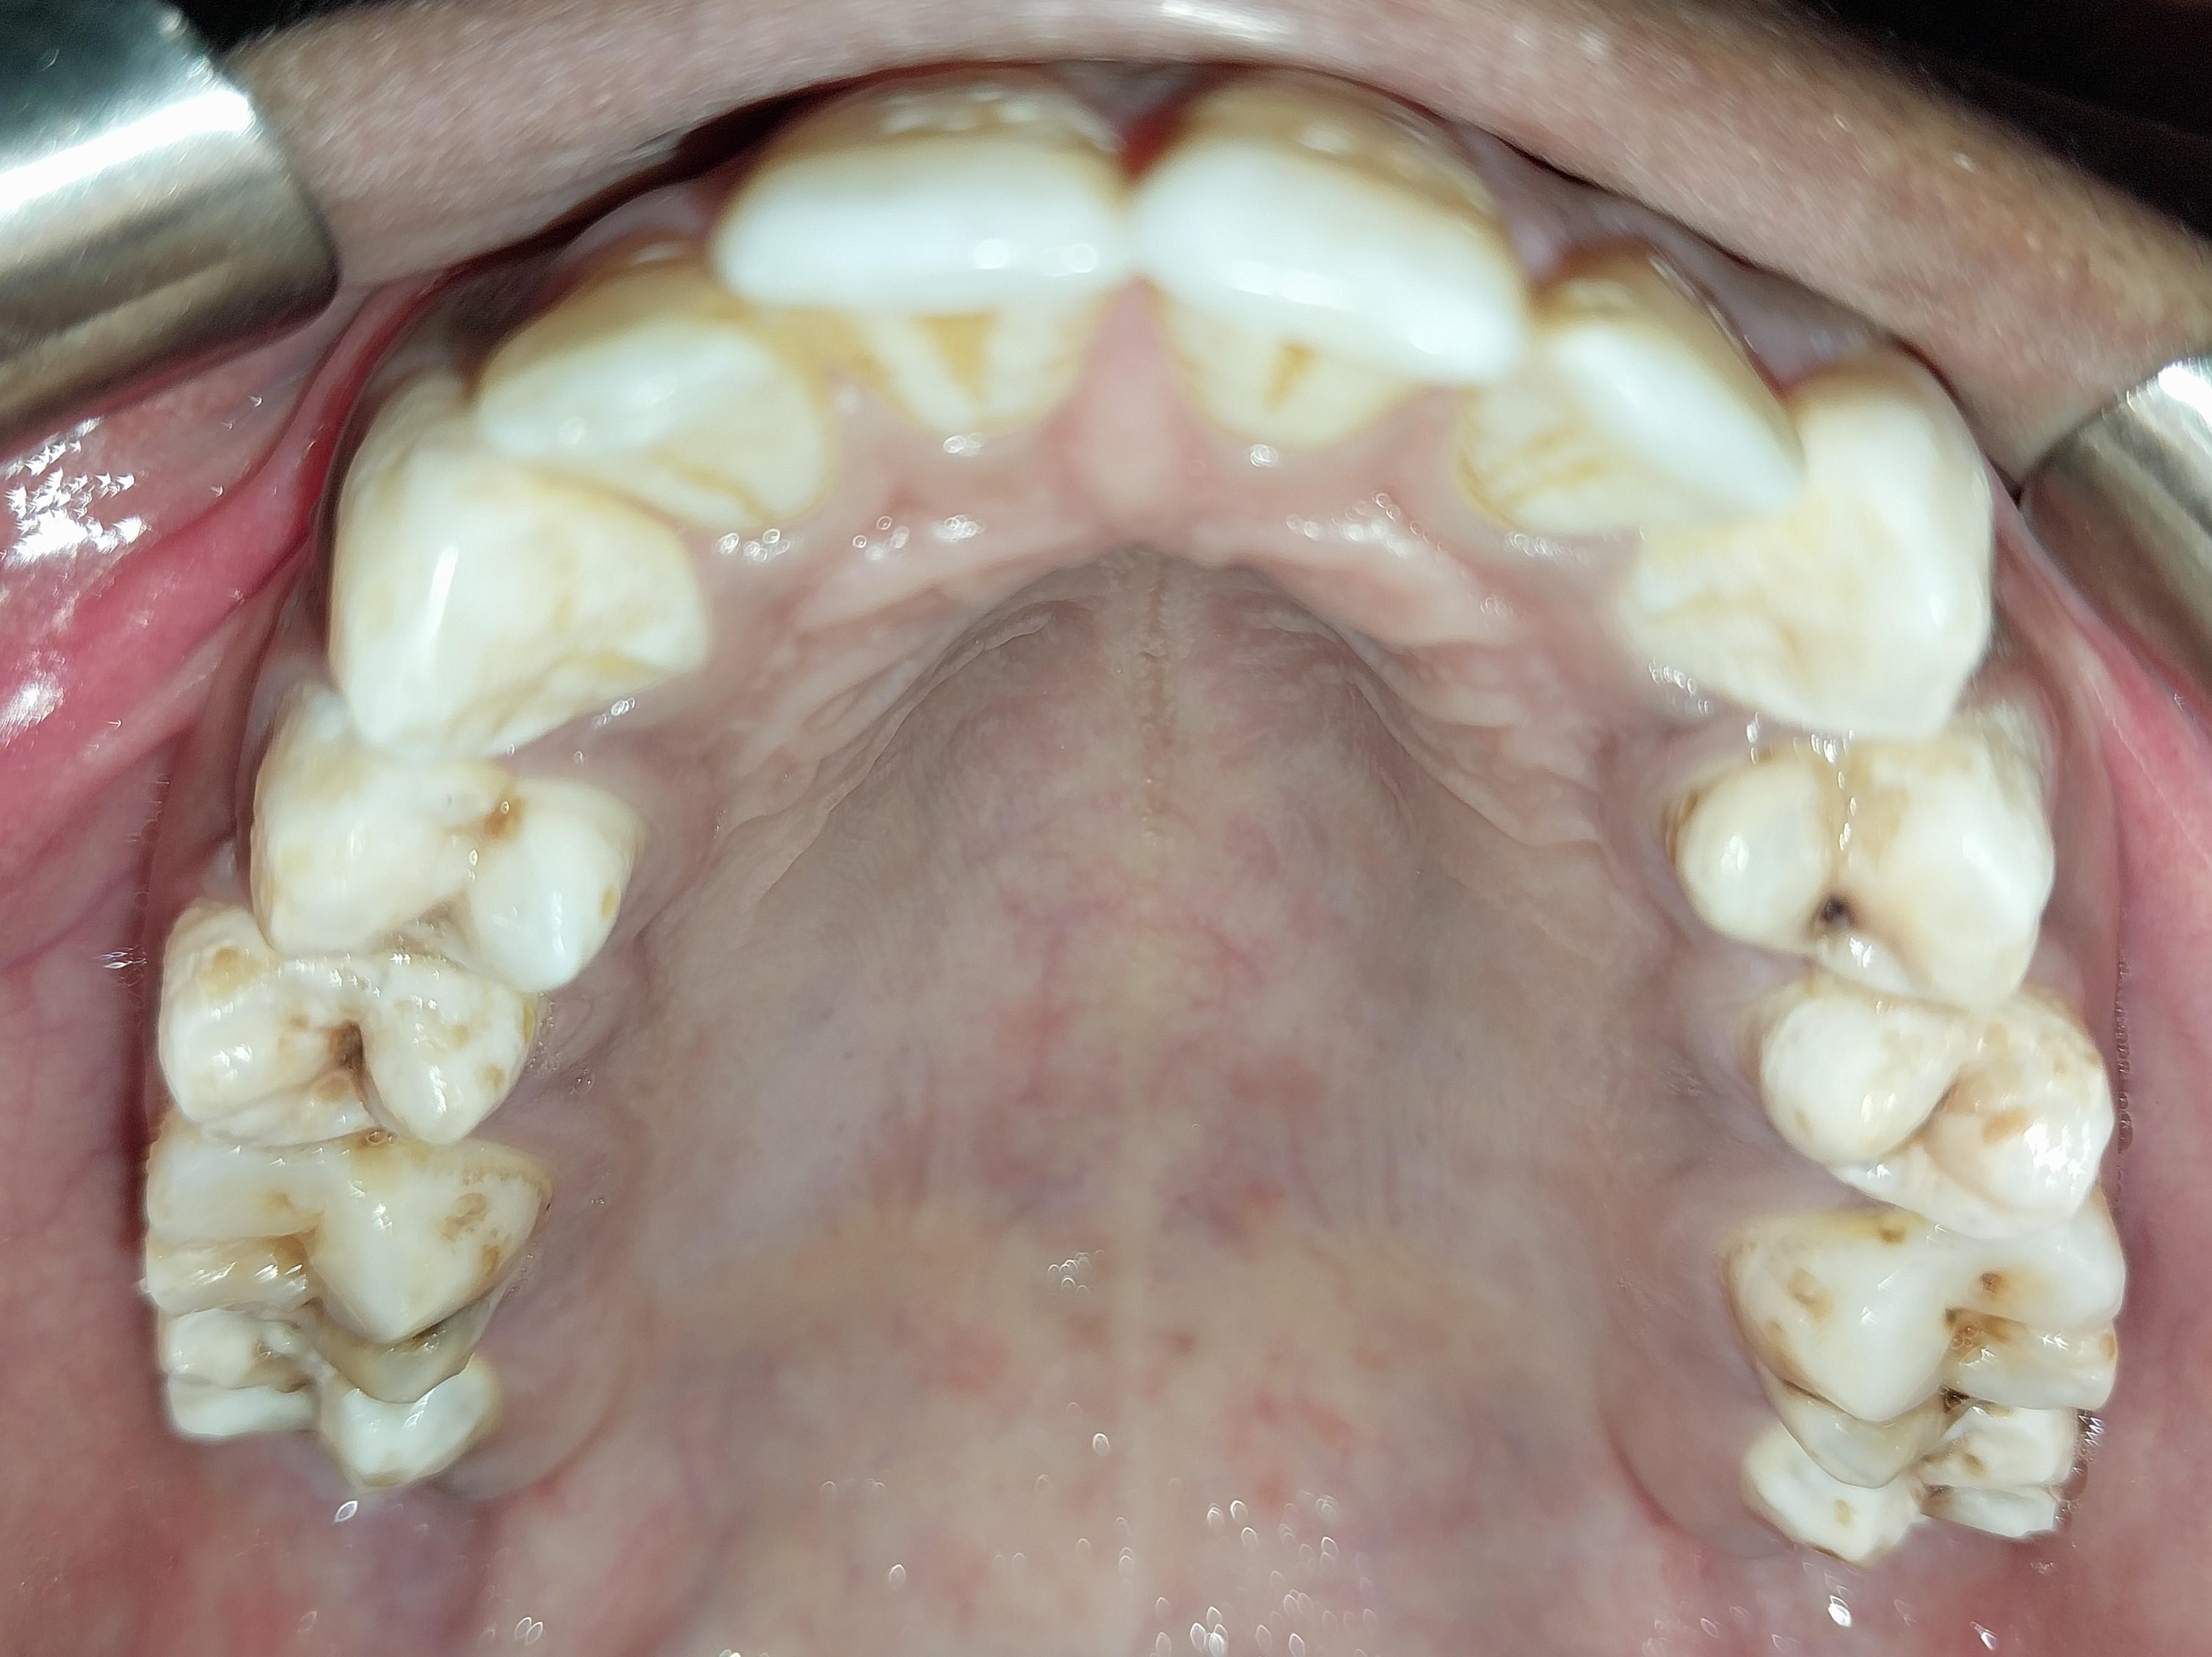D: (1752, 1171, 2144, 1479), (123, 1136, 530, 1398), (1693, 744, 2062, 988), (1752, 982, 2112, 1230), (161, 910, 524, 1154)
